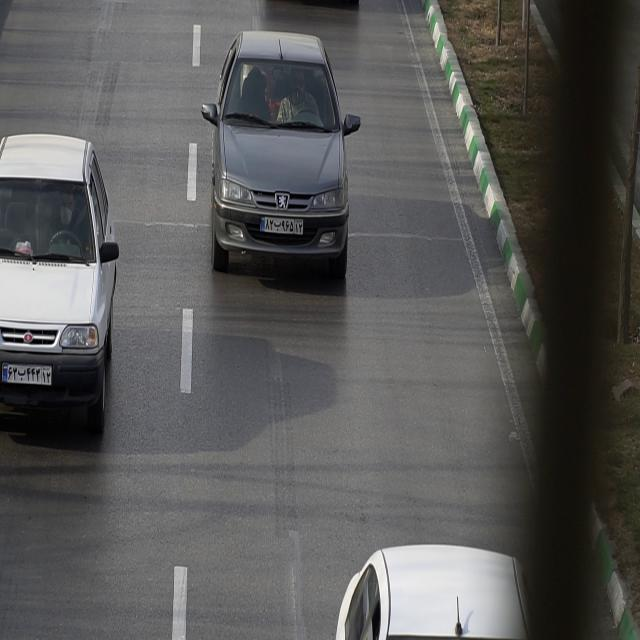car: (202, 30, 363, 281), (0, 134, 120, 441)
